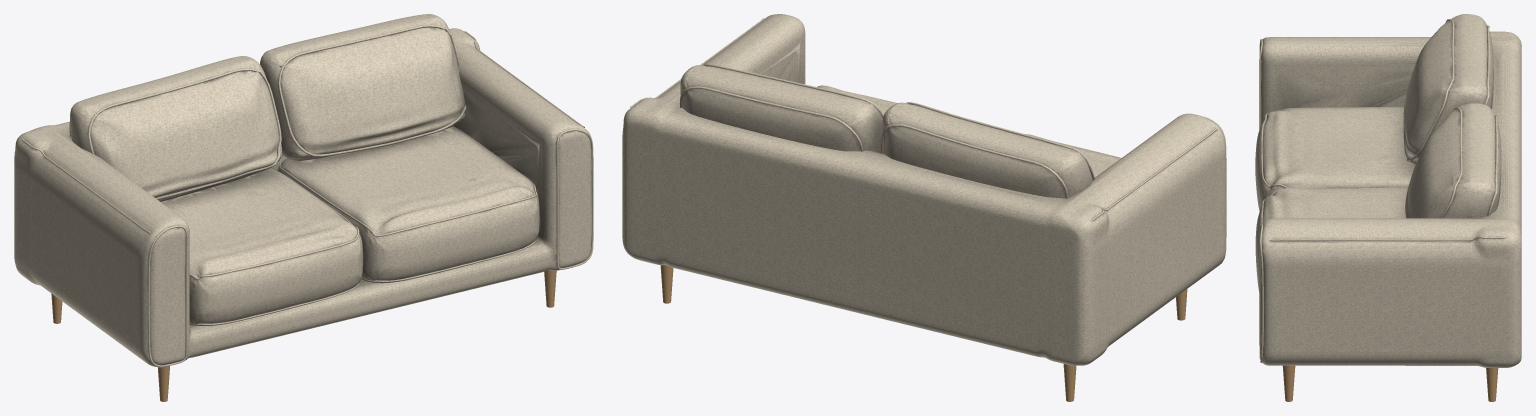
The model's file is lino-natural.gltf.
3 views of the same model, side by side, from view 1: azimuth 30°, elevation 25°; view 2: azimuth 150°, elevation 25°; view 3: azimuth 270°, elevation 25° (orthographic). The views are drawn at different scales.
Visible parts, largest first — view 1: tela_ar, madera_ar; view 2: tela_ar, madera_ar; view 3: tela_ar, madera_ar.
Boxes of the visible parts, x1=… form: tela_ar: x1=14, y1=14, x2=593, y2=367; madera_ar: x1=51, y1=270, x2=556, y2=401; tela_ar: x1=622, y1=14, x2=1226, y2=365; madera_ar: x1=660, y1=265, x2=1187, y2=401; tela_ar: x1=1255, y1=14, x2=1521, y2=367; madera_ar: x1=1282, y1=365, x2=1498, y2=401.
Bounding box in the file's own units: 1.7 × 0.8275 × 0.9121.
Materials: 2 (2 with a texture image).
